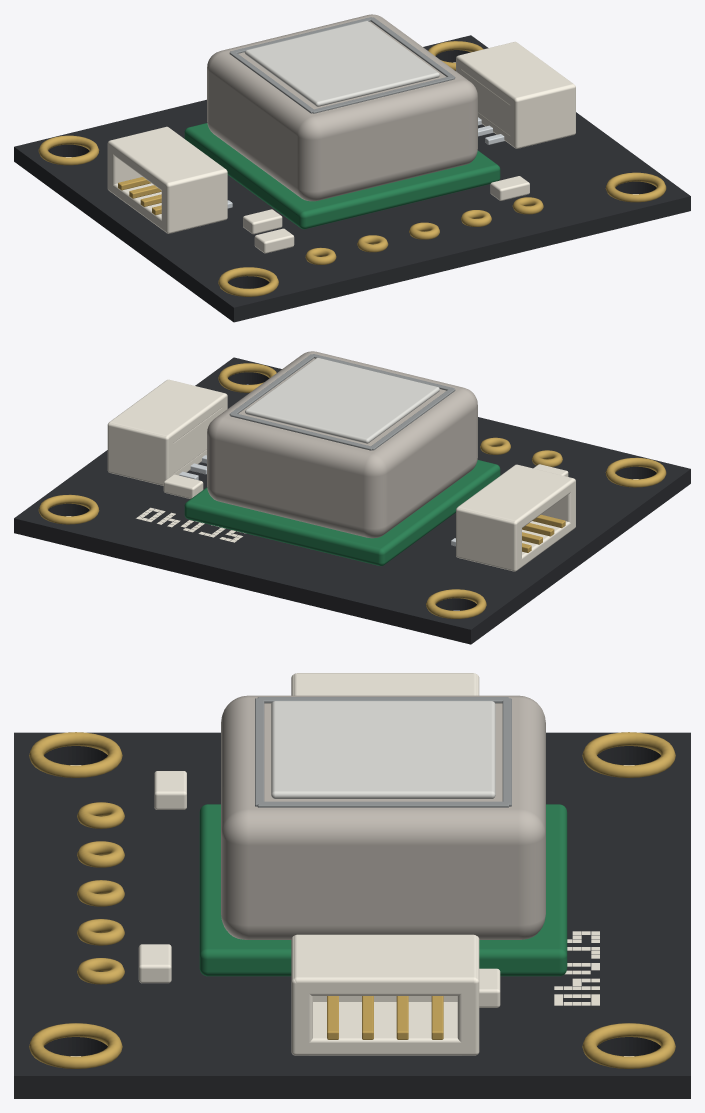
Rendered from sensors-04.glb.
3 renders of one model, top to bottom at view 1: azimuth 30°, elevation 25°; view 2: azimuth 150°, elevation 25°; view 3: azimuth 270°, elevation 25°, orthographic. The views are drawn at different scales.
Parts seen in each view (by area): view 1: pcb, sensor, left-socket, membrane, right-socket, mounting, pads; view 2: pcb, sensor, left-socket, membrane, right-socket, mounting, pads; view 3: pcb, sensor, right-socket, membrane, mounting, pads, left-socket.
Part boxes in pixels (x1,y1,x2,y2): pcb: (14,35,690,322); sensor: (184,14,500,229); left-socket: (107,126,232,233); membrane: (245,21,439,106); right-socket: (456,41,575,148); mounting: (38,41,666,296); pads: (305,197,543,264); pcb: (14,357,690,644); sensor: (184,351,500,565); left-socket: (451,464,575,571); membrane: (245,357,439,443); right-socket: (107,379,227,485); mounting: (38,363,666,618); pads: (480,437,562,467); pcb: (14,732,690,1098); sensor: (199,695,567,976); right-socket: (291,934,479,1055); membrane: (271,701,495,798); mounting: (29,732,675,1068); pads: (77,802,124,984); left-socket: (291,673,479,695).
Size of the model in its own units: 2.1 by 0.516 by 1.75.
